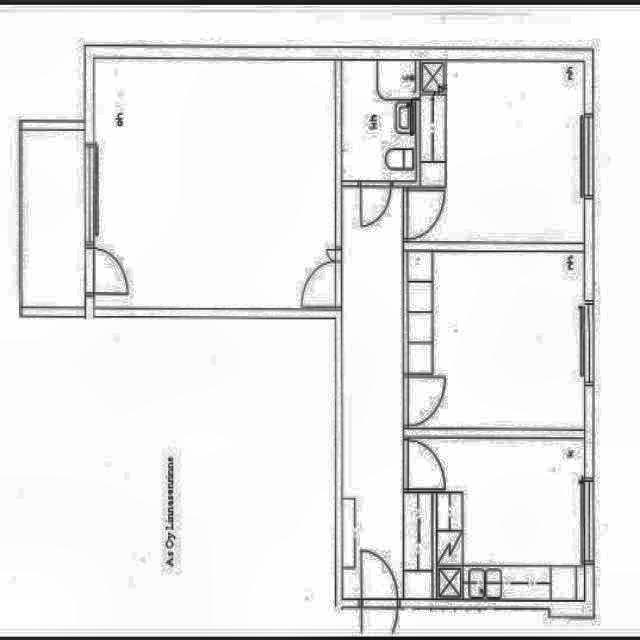room: (94, 59, 335, 308), (409, 62, 584, 242), (409, 252, 584, 428), (409, 439, 584, 600), (342, 61, 419, 180)
